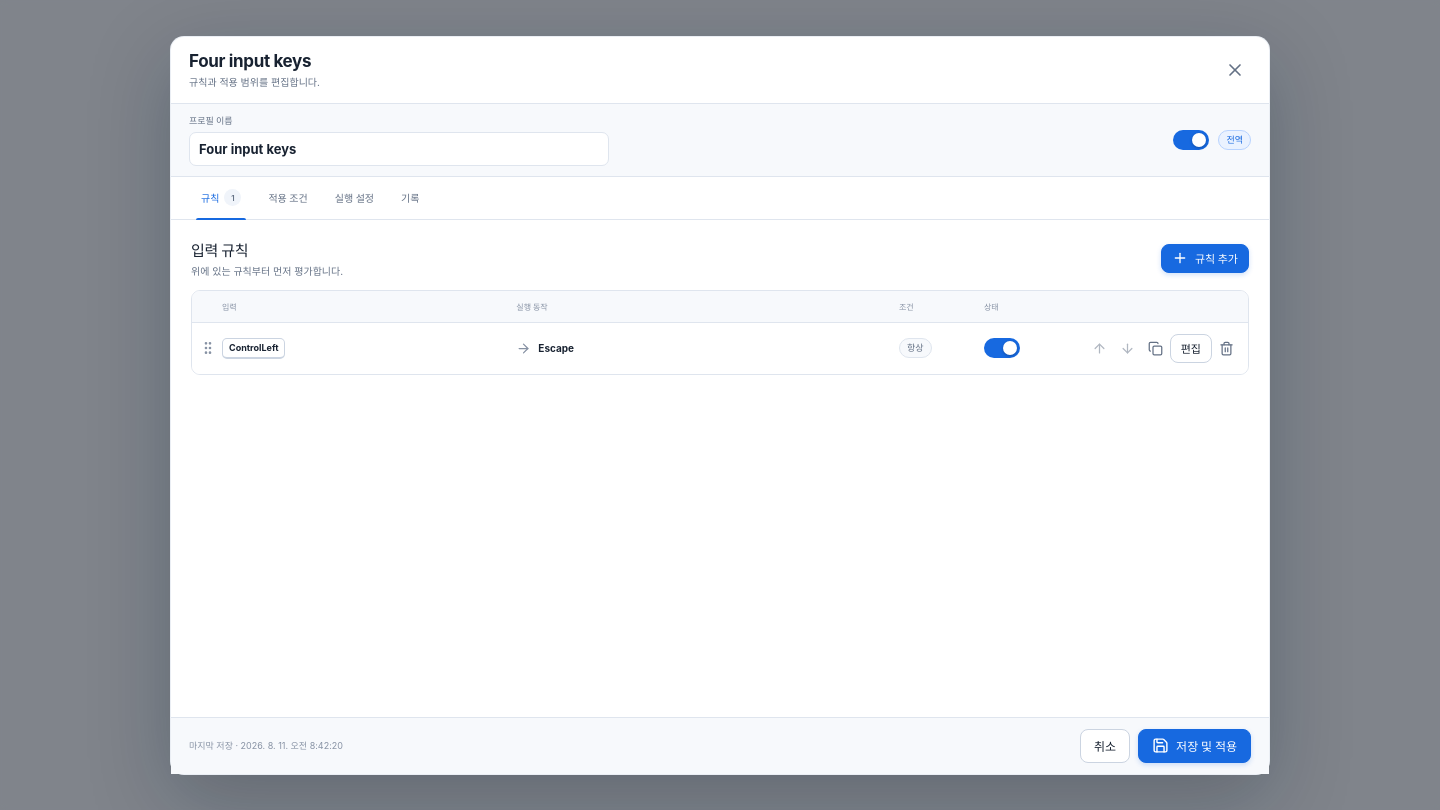
ProfileEditor › offers four manual input-key slots for reserved shortcuts
This screenshot has width=1440, height=810.
Step 1. Click the button "편집" → [1191, 348], box [1170, 334, 1212, 362]
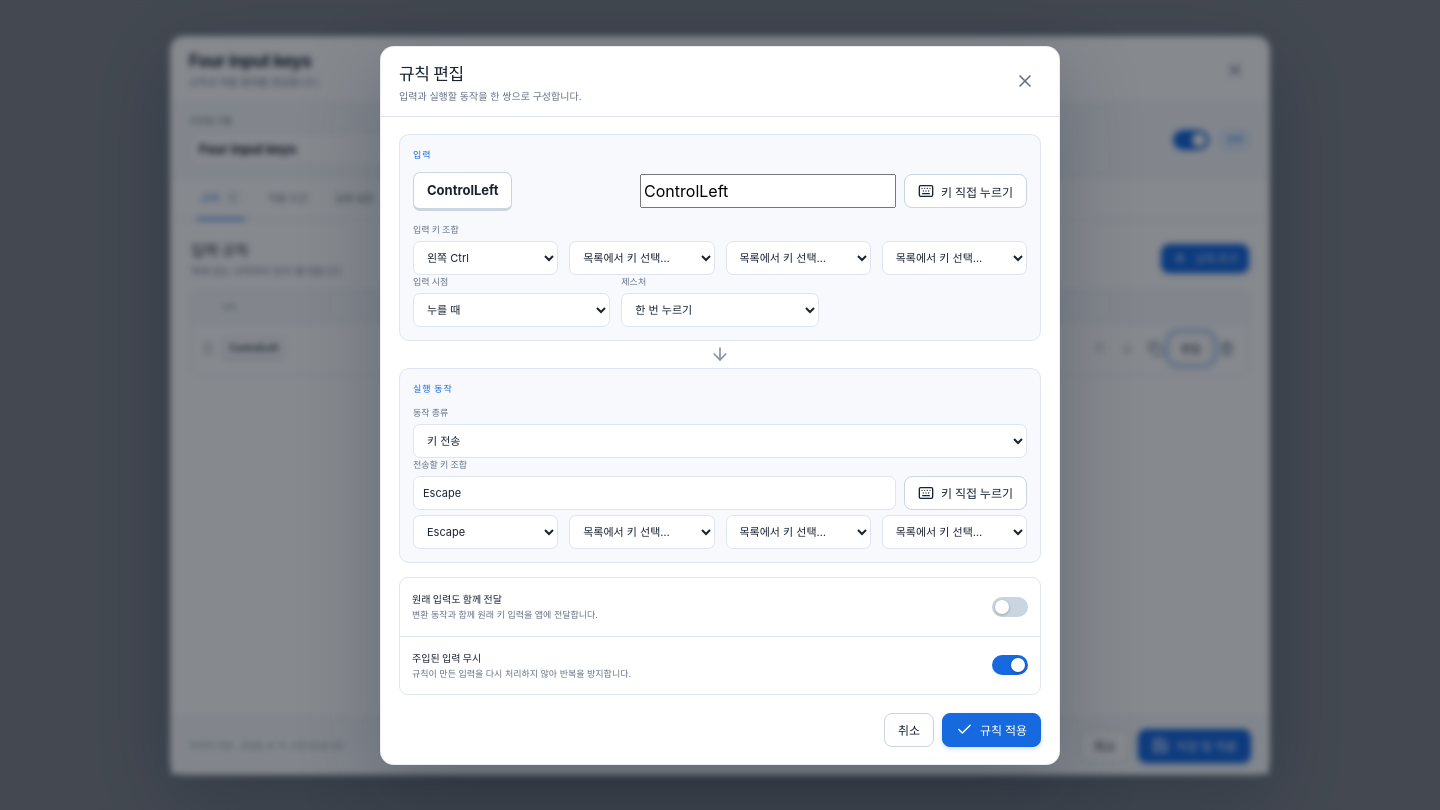
Result: the dropdown named "입력 키 목록 4" is shown
Step 2. Select "S" in the dropdown named "입력 키 목록 4" → [954, 258], box [882, 240, 1027, 274]
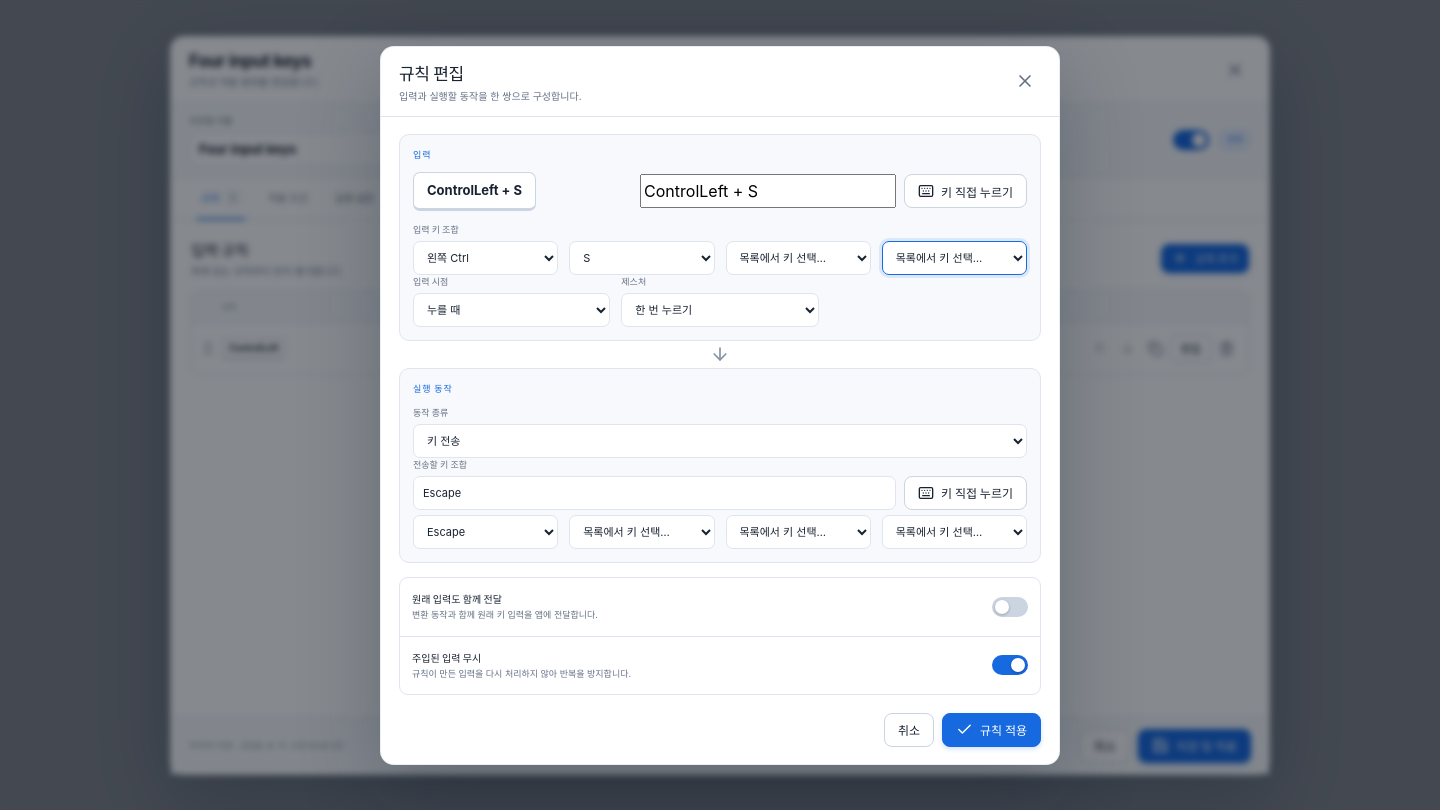
Result: the field named "입력 키 조합 직접 입력" holds "ControlLeft + S" at [640, 174, 896, 208]
